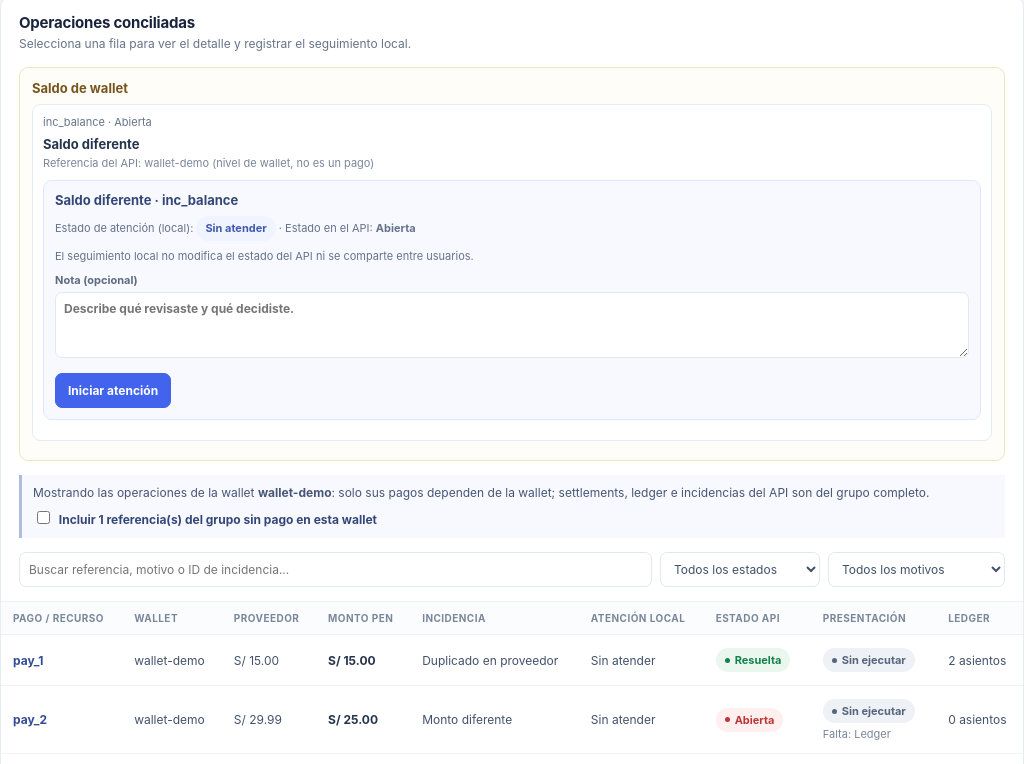
Test case: OperationsListComponent › señala la fuente que falta
What coordinates should you click on to do the following:
click the checkbox with id "include-group"
I would click on:
 (44, 518)
Its box is x1=37 y1=511 x2=50 y2=524.
(page scrolled)
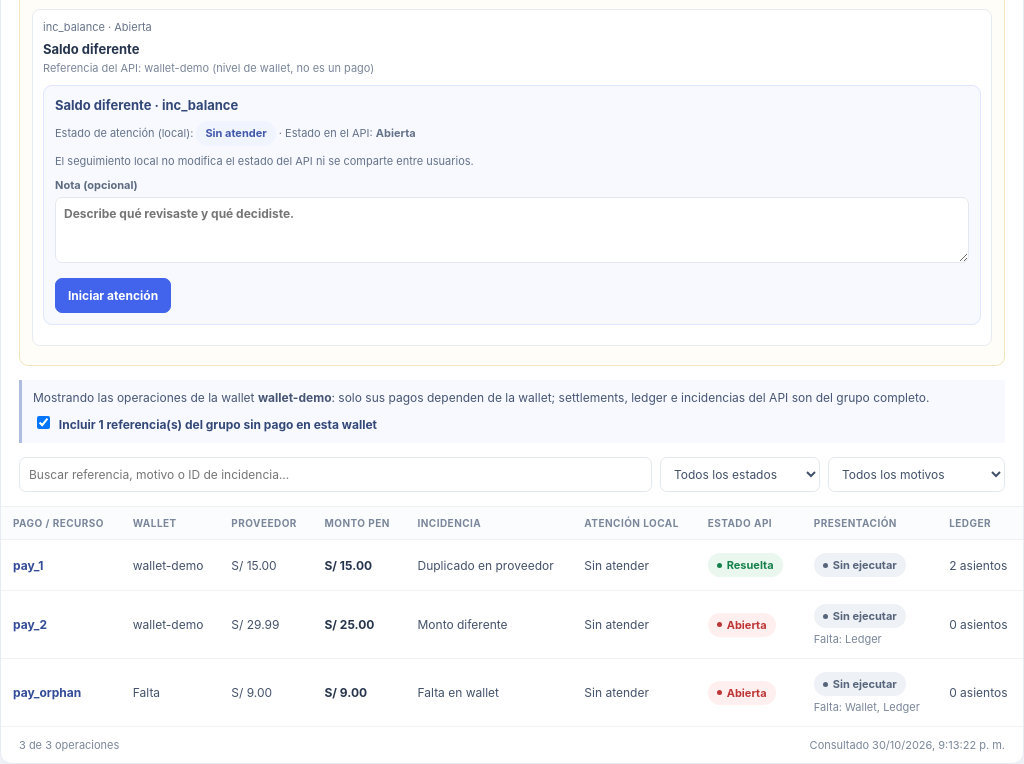
expect the text with test id "missing" shows "Wallet": met, box x1=814 y1=700 x2=920 y2=714
